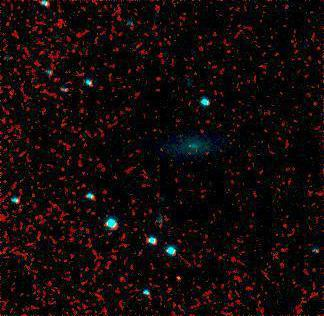star: (163, 265, 193, 295)
